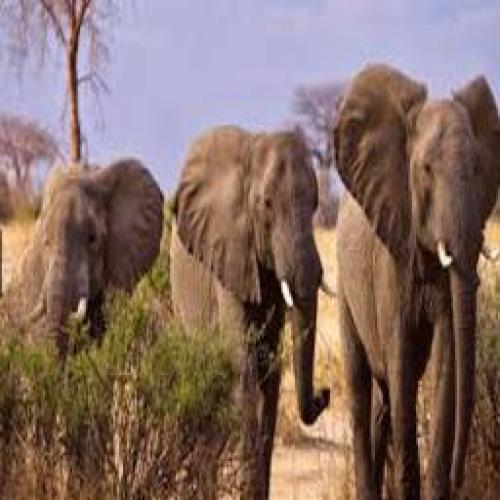african_elephant-endangered: (336, 63, 500, 500), (167, 127, 332, 497), (0, 159, 162, 378)
